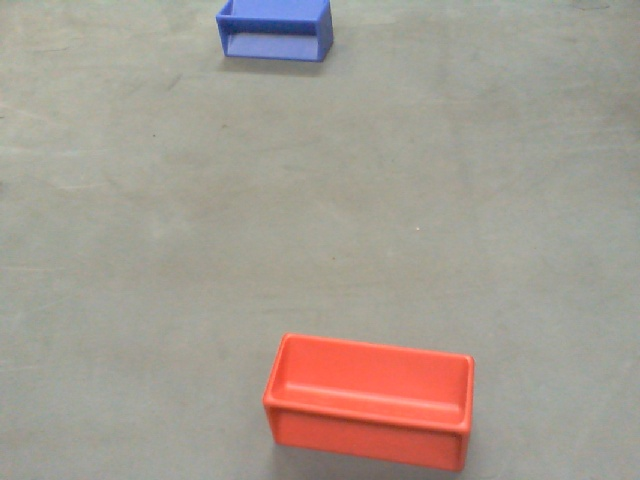BlueSample: (215, 1, 337, 66)
RedSample: (260, 329, 477, 476)
